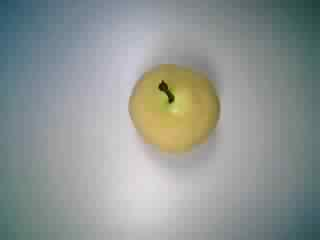pear: (116, 56, 230, 159)
